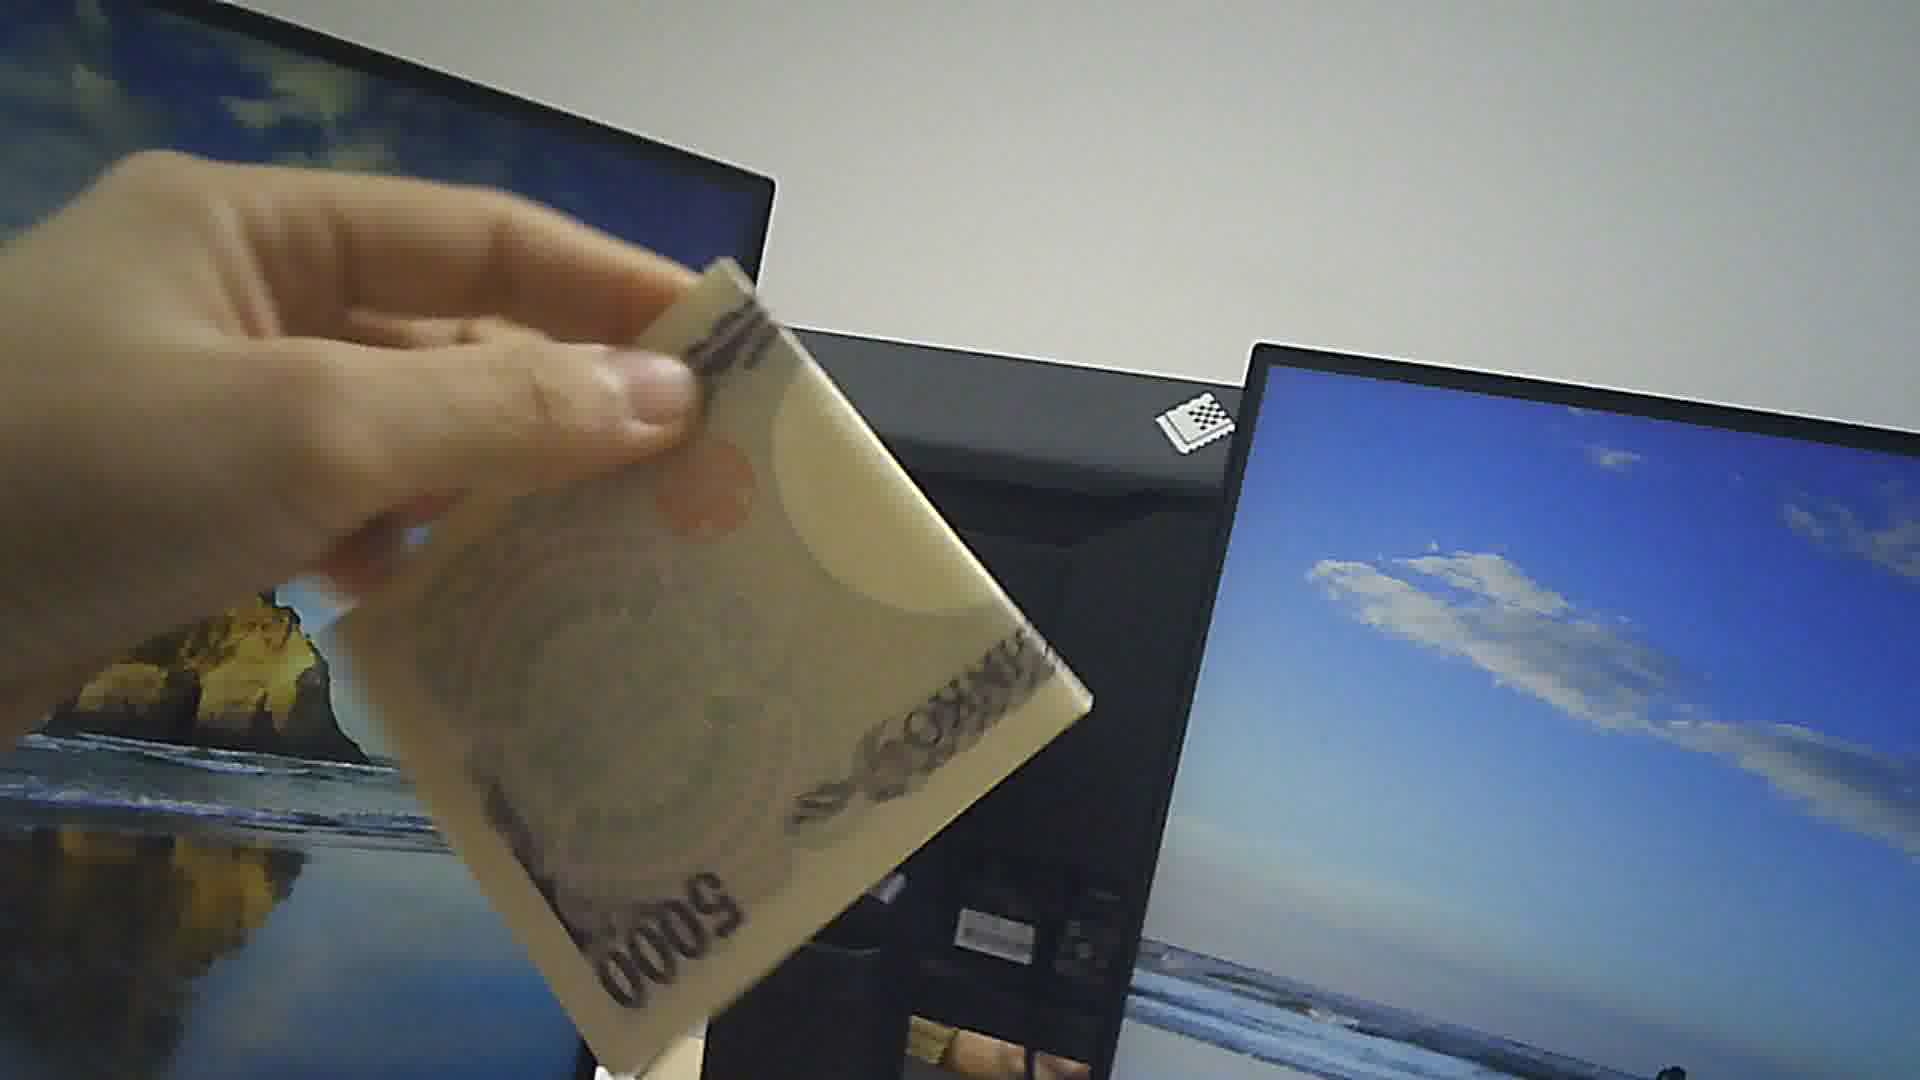5,000 Yen: (306, 237, 1087, 1079)
